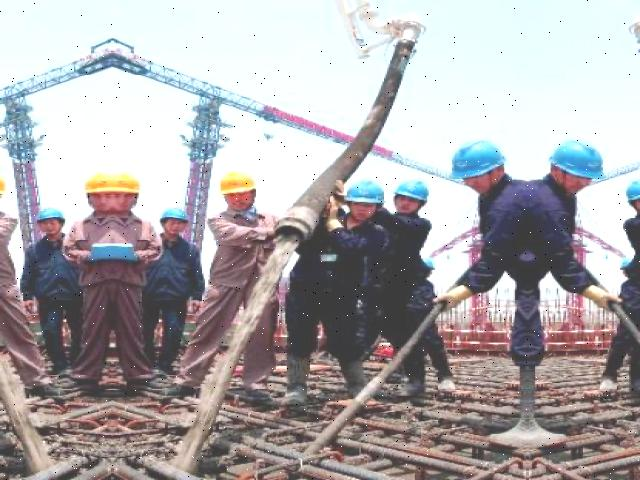Helmet: (446, 134, 510, 184), (548, 135, 611, 184), (78, 167, 144, 204), (342, 176, 390, 208), (216, 166, 263, 198), (393, 176, 435, 206), (156, 204, 198, 224), (35, 204, 69, 224)
